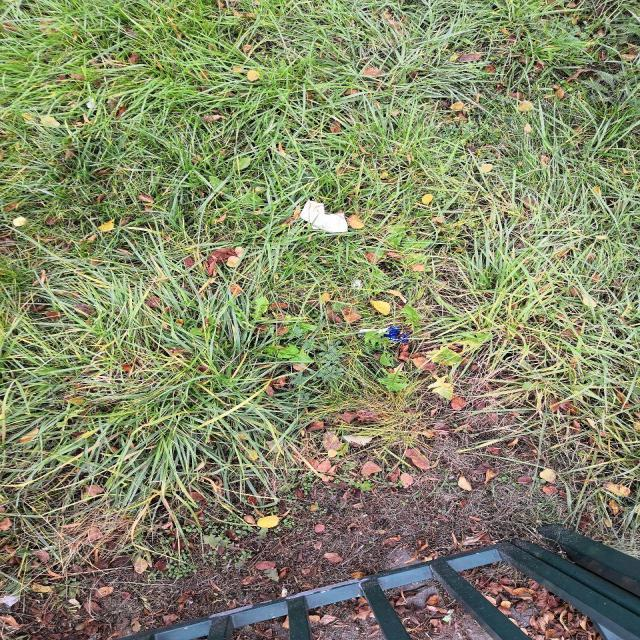rubbish: (299, 200, 349, 234), (359, 326, 409, 342)
